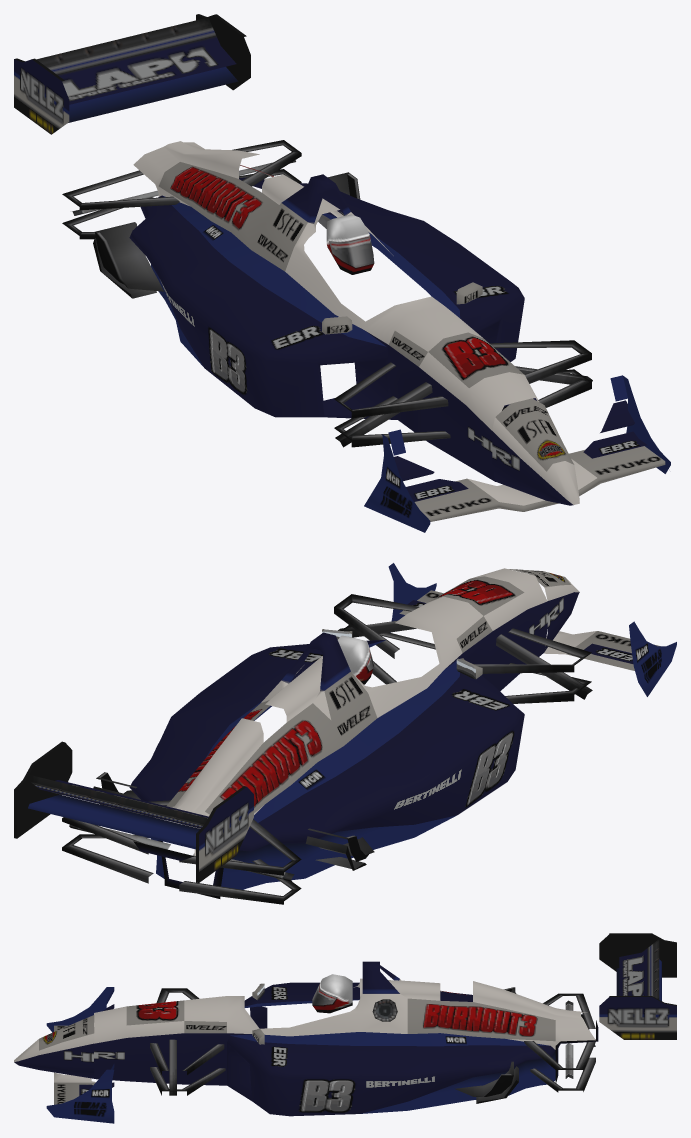
Rendered from car-HSPC_Car25.glb.
The picture shows the model from 3 angles, top to bottom: view 1: azimuth 30°, elevation 25°; view 2: azimuth 150°, elevation 25°; view 3: azimuth 270°, elevation 25°; orthographic projection. The views are drawn at different scales.
Parts seen in each view (by area): view 1: HSPC_Car25; view 2: HSPC_Car25; view 3: HSPC_Car25.
Boxes of the visible parts, left/top/right/bottom form: HSPC_Car25: left=14, top=14, right=670, bottom=532; HSPC_Car25: left=14, top=563, right=676, bottom=904; HSPC_Car25: left=14, top=933, right=676, bottom=1123.
Size of the model in its own units: 1.68 by 0.9141 by 4.84.
5 materials, 5 textured.
